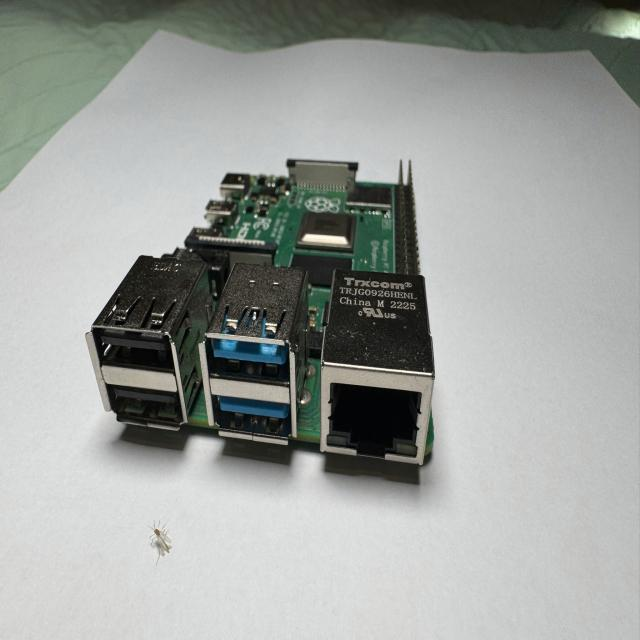CPU: (297, 211, 361, 254)
Ethernet: (321, 272, 438, 487)
GPIO: (398, 159, 422, 275)
Raspberry: (87, 159, 437, 485)
micro-hdmi: (204, 198, 235, 223)
